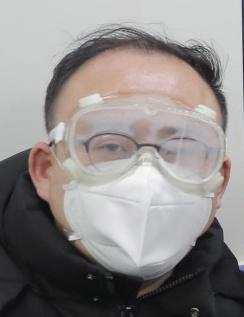OK: (55, 97, 225, 281)
